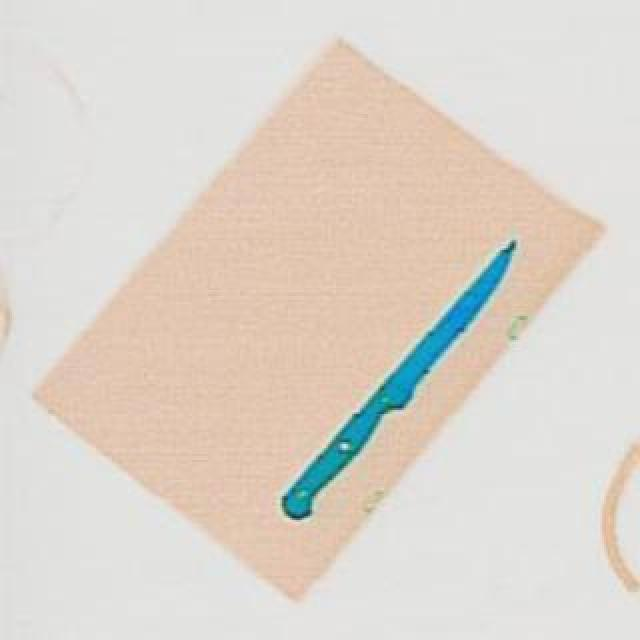knife: (266, 226, 534, 528)
